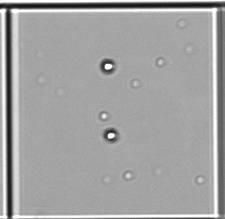Living Cell: (104, 128, 118, 142), (101, 60, 115, 73)
